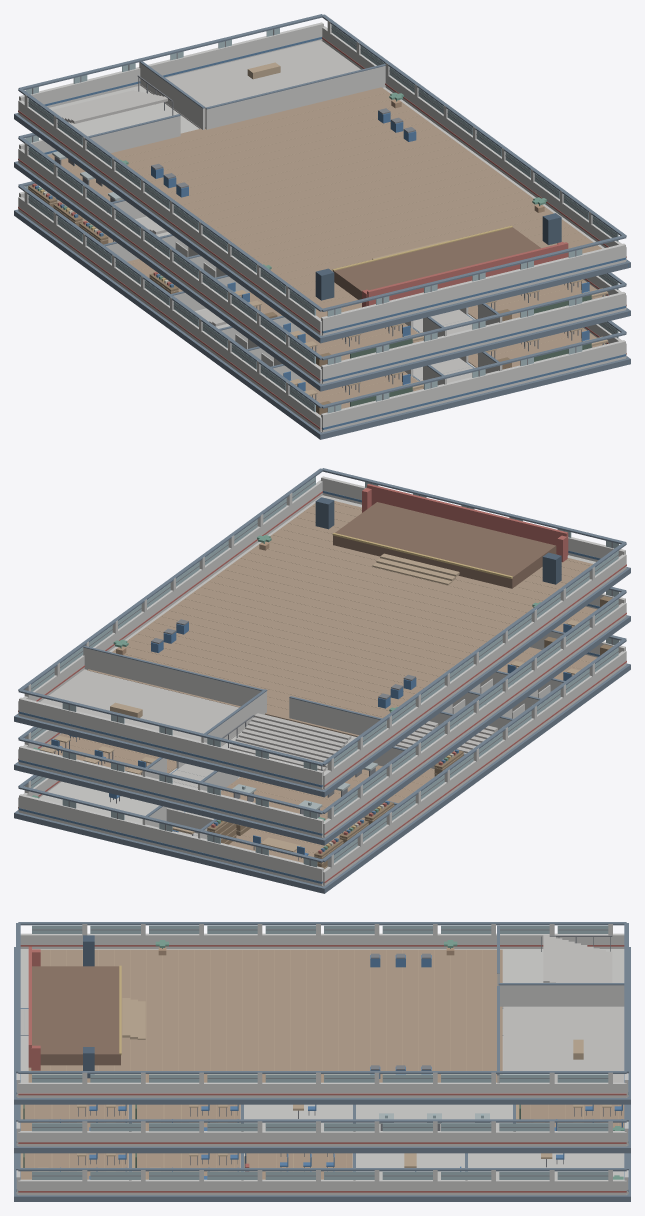
File: sao_jorge_3_andares_CONCEITUAL.glb
The picture shows the model from 3 angles, top to bottom: view 1: azimuth 30°, elevation 25°; view 2: azimuth 150°, elevation 25°; view 3: azimuth 270°, elevation 25°; orthographic projection.
Visible parts, largest first — view 1: world; view 2: world; view 3: world.
Part boxes in pixels (x1,y1,x2,y2): world: (14, 14, 630, 439); world: (14, 468, 630, 893); world: (14, 922, 630, 1201).
Size of the model in its own units: 22.55 by 9.05 by 38.55.
